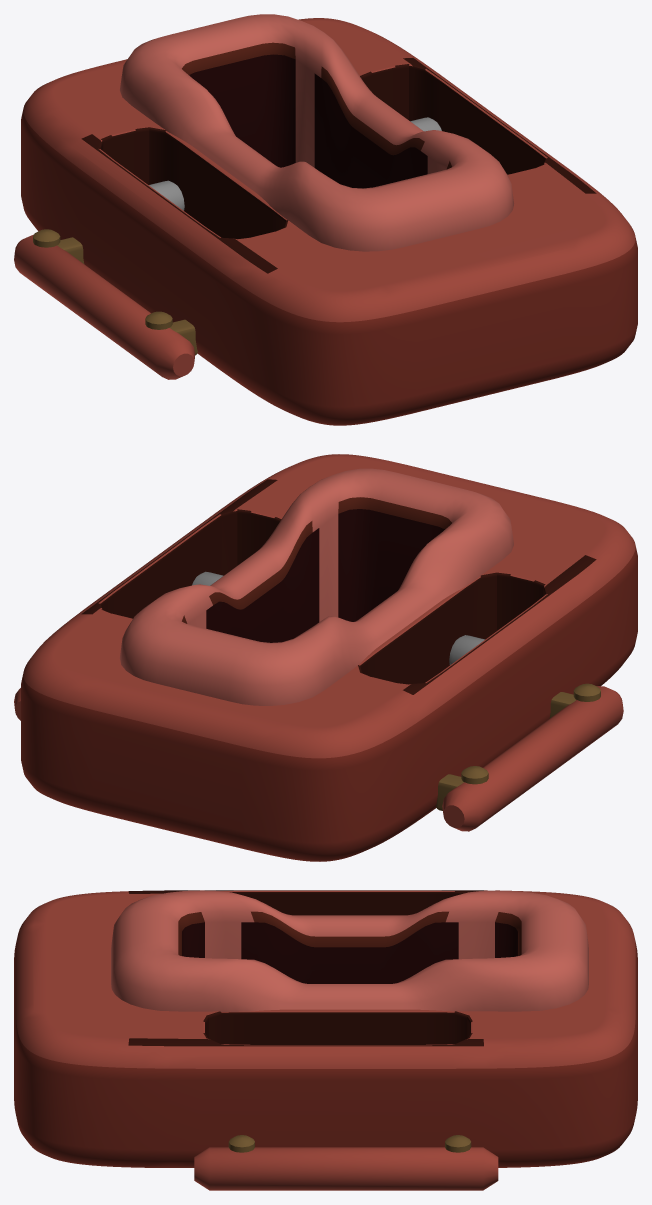
Rendered from red_furnace.glb.
3 views of the same model, one above another, from view 1: azimuth 30°, elevation 25°; view 2: azimuth 150°, elevation 25°; view 3: azimuth 270°, elevation 25° (orthographic). The views are drawn at different scales.
Parts seen in each view (by area): view 1: housing, rim, rail1; view 2: housing, rim, rail1; view 3: housing, rim, rail-1.
Boxes of the visible parts, <box> form: housing: <box>21,18,637,425</box>; rim: <box>120,14,513,251</box>; rail1: <box>14,234,195,379</box>; housing: <box>21,454,637,861</box>; rim: <box>119,468,513,705</box>; rail1: <box>442,686,623,831</box>; housing: <box>14,890,637,1167</box>; rim: <box>111,890,588,1011</box>; rail-1: <box>194,1147,498,1190</box>.
Size of the model in its own units: 21.6 by 7.6 by 25.98.
